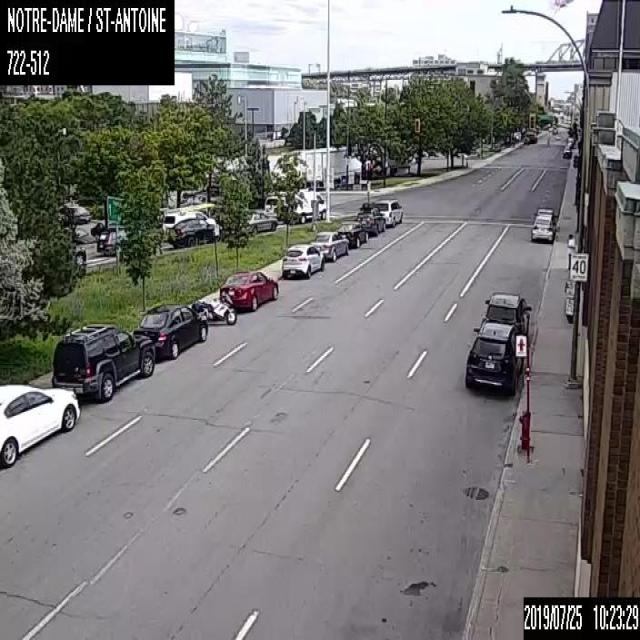vehicle: (51, 322, 154, 401), (0, 382, 79, 467), (464, 320, 524, 394), (133, 304, 207, 358), (483, 291, 532, 344), (219, 268, 278, 310), (161, 201, 219, 239), (190, 292, 236, 324), (282, 243, 324, 278), (167, 217, 214, 245), (293, 188, 327, 224), (310, 230, 348, 261), (356, 201, 384, 235), (336, 220, 367, 247), (375, 198, 402, 226), (96, 228, 123, 256), (246, 210, 276, 232), (531, 216, 555, 242), (533, 206, 557, 221)
